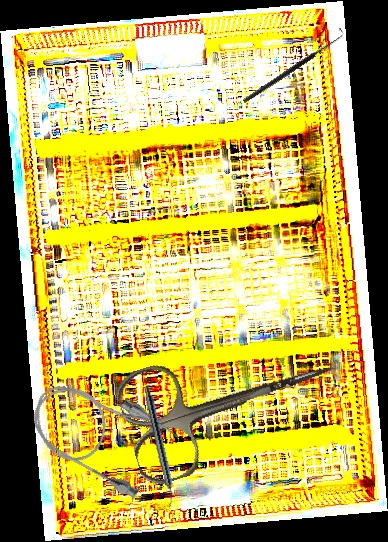Cannula: (17, 361, 184, 506)
Handpiece: (140, 384, 179, 509)
Hook Surgical: (239, 27, 346, 104)
Iris Scissors: (111, 314, 353, 490)
